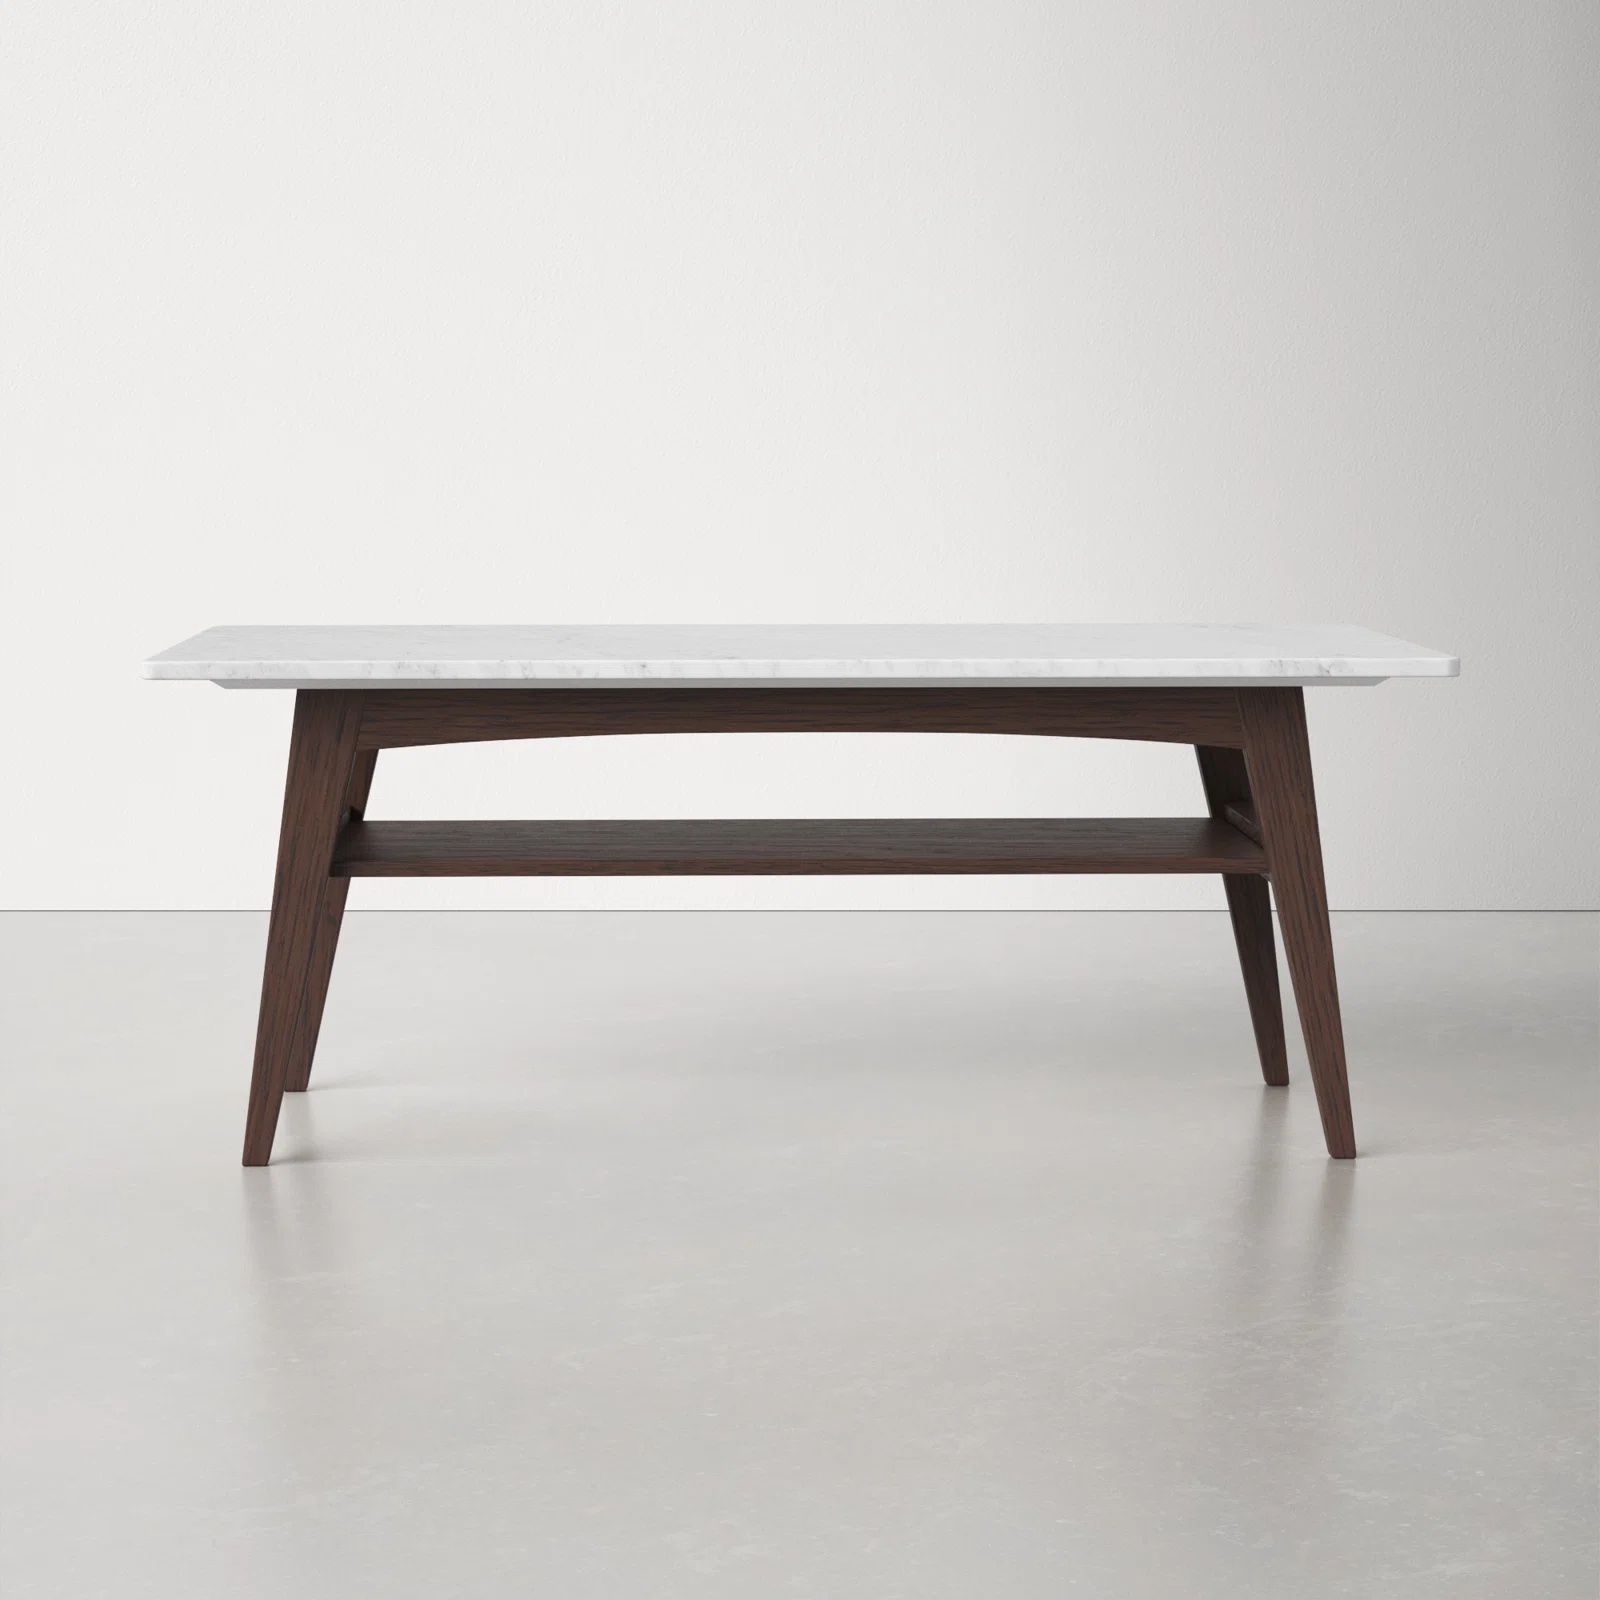obstacle: (147, 626, 1456, 1165)
